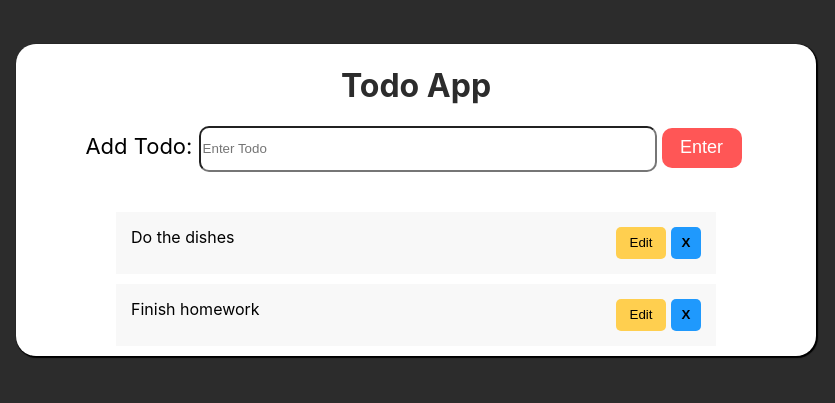
Test: Todo App › should edit todo
Step 1. Click the button "Edit" in the row of "Do the dishes" → point(641, 243), box x1=616 y1=227 x2=666 y2=259
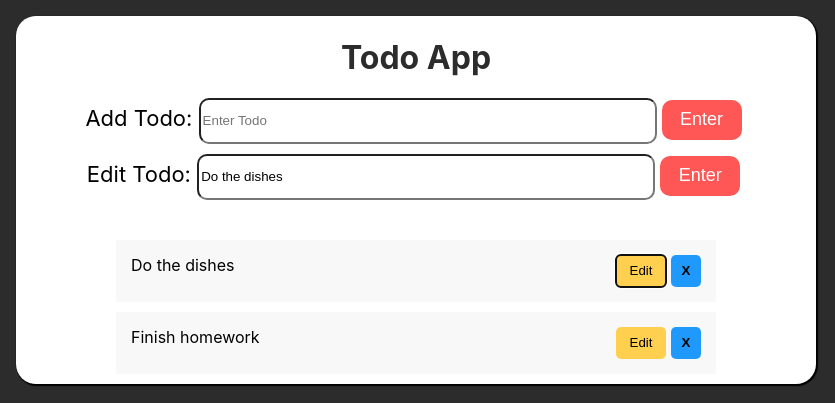
Step 2. Type " before 5pm" into the 2nd field → point(426, 177), box x1=197 y1=154 x2=655 y2=200
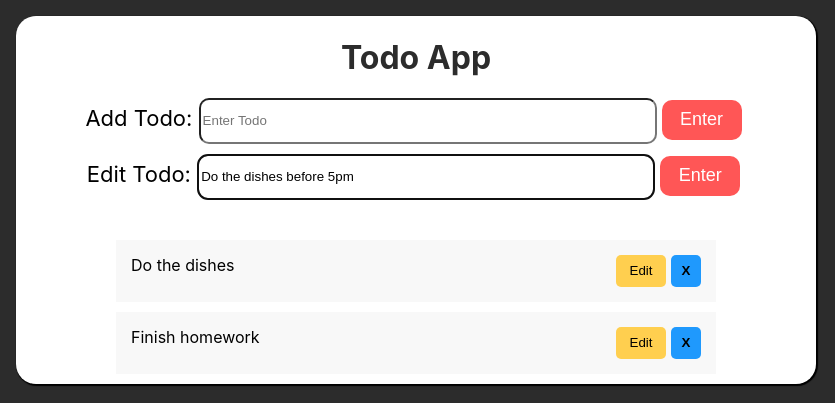
Step 3. Click the button "Enter" in the row of "Edit Todo:" → point(700, 176), box x1=660 y1=156 x2=740 y2=196
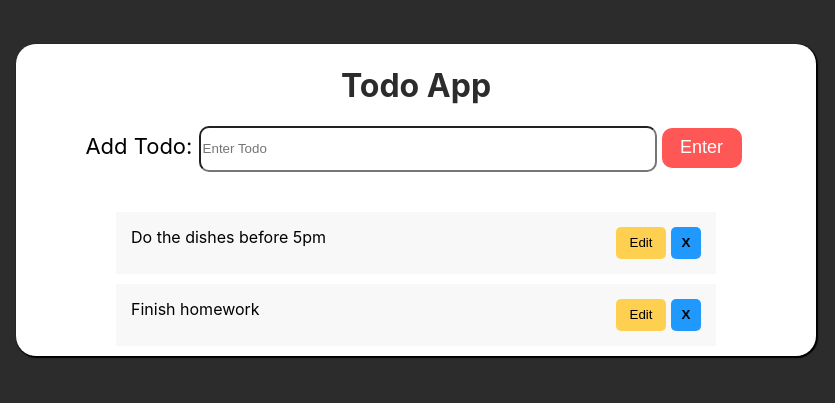
Check: the text "Do the dishes before 5pm" is shown, box x1=131 y1=227 x2=326 y2=259
